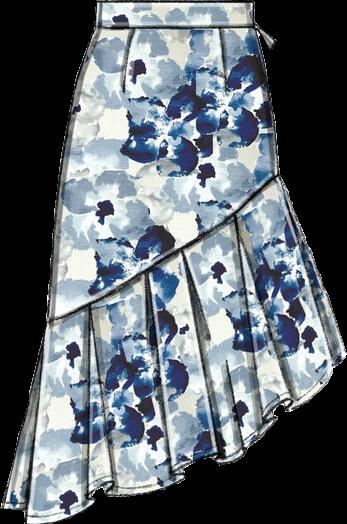Hemline: (0, 351, 346, 523)
Waistline: (44, 171, 280, 326), (93, 22, 254, 33), (95, 0, 255, 5)
